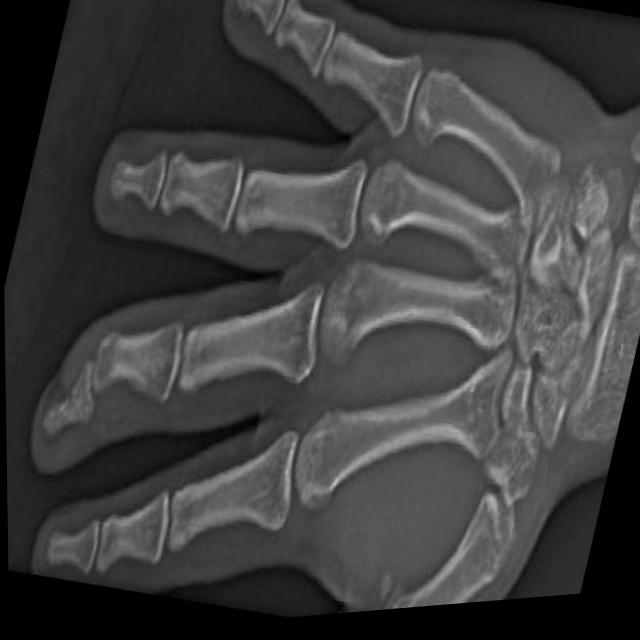fracture: (63, 322, 122, 428)
